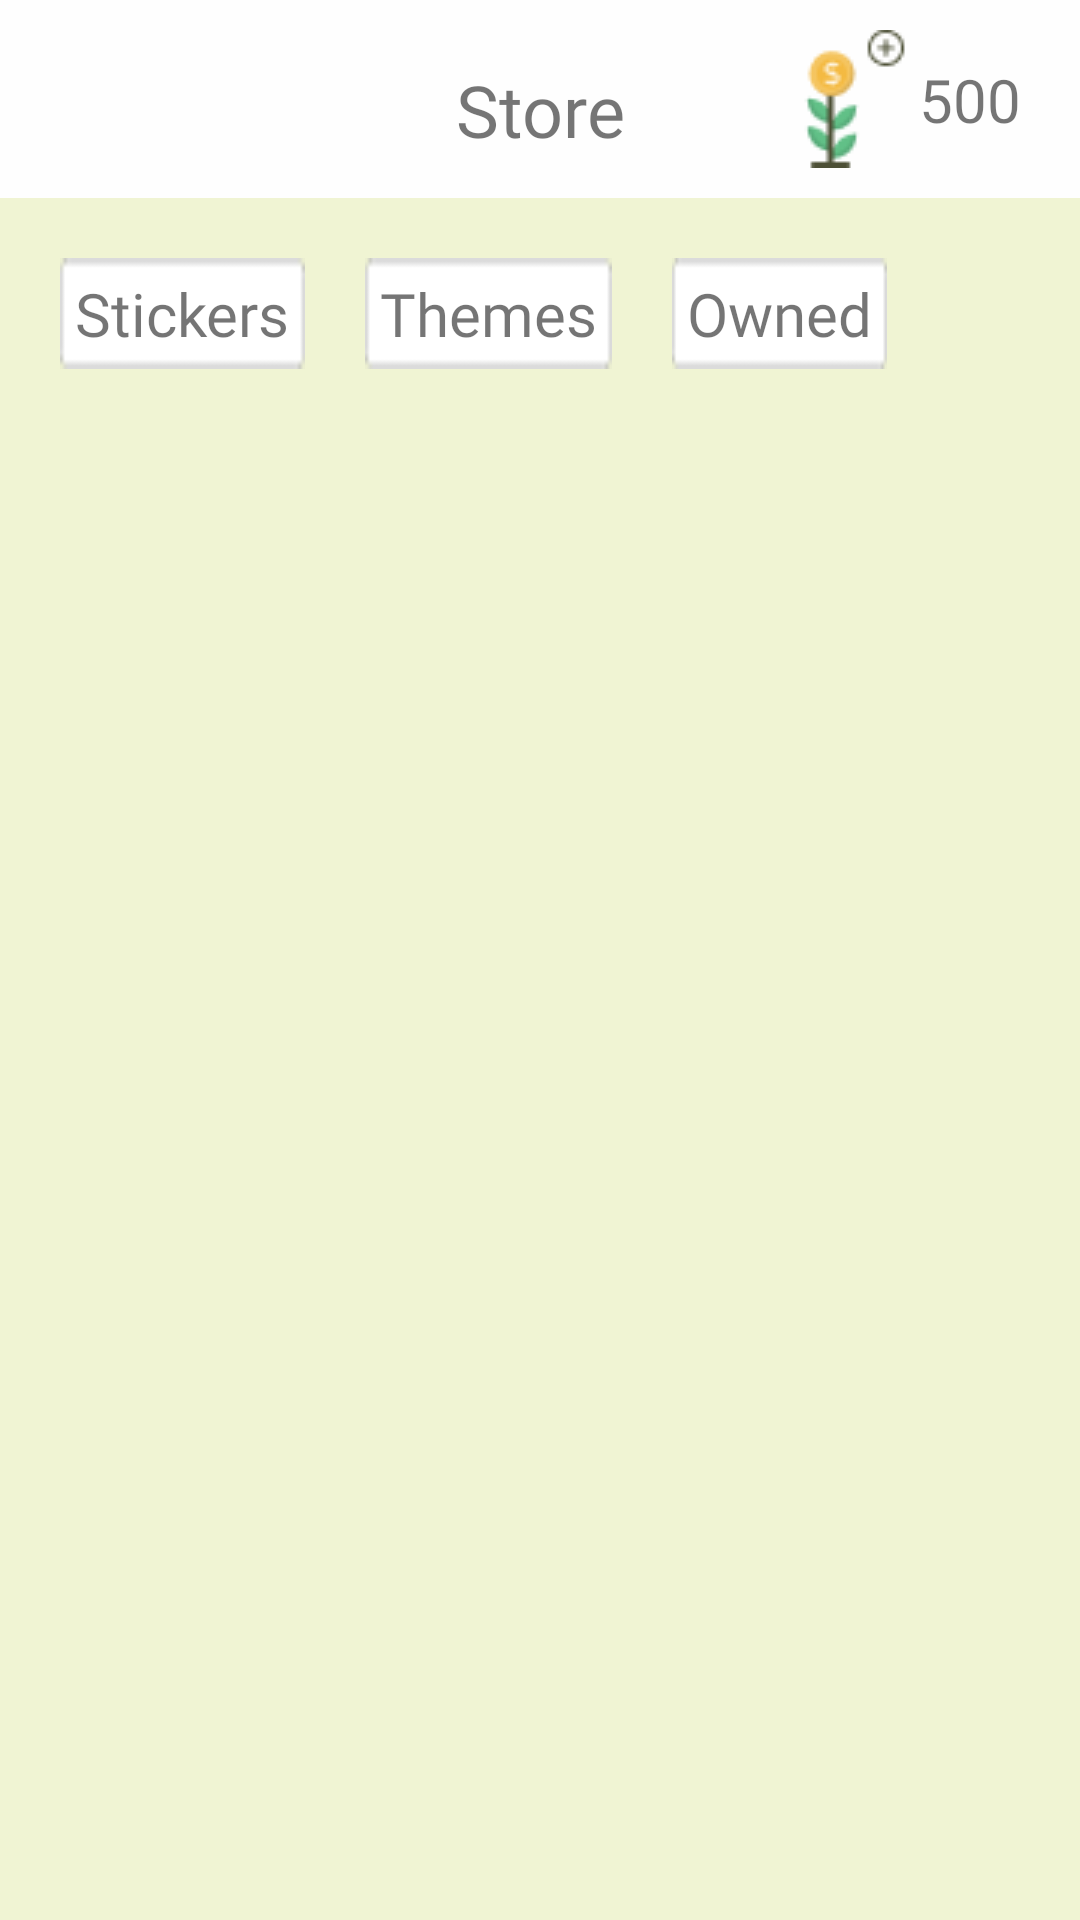

Named icons in this screenshot (1080x1920) and their centers, (x=x, y=y):
flower add: (x=856, y=99)
